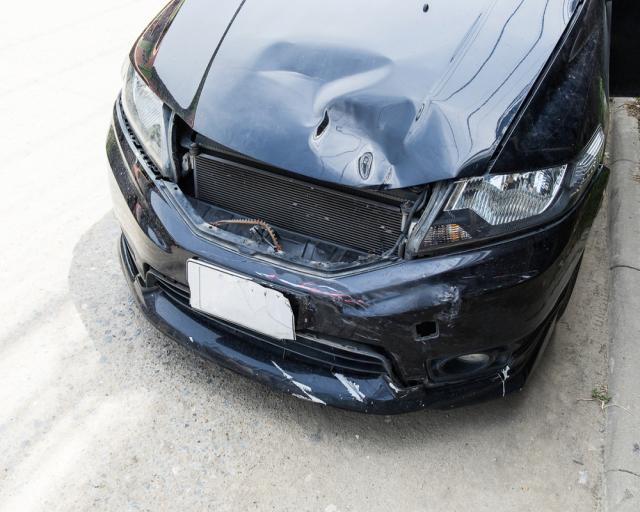dent: (248, 38, 454, 185)
scratch: (253, 271, 390, 343), (269, 359, 330, 406), (333, 370, 369, 405)
